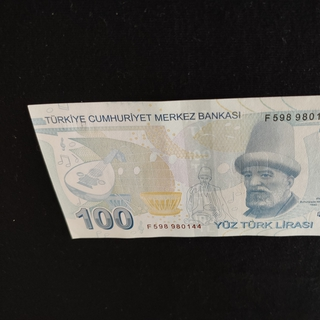100TLBack: (26, 93, 320, 239)
